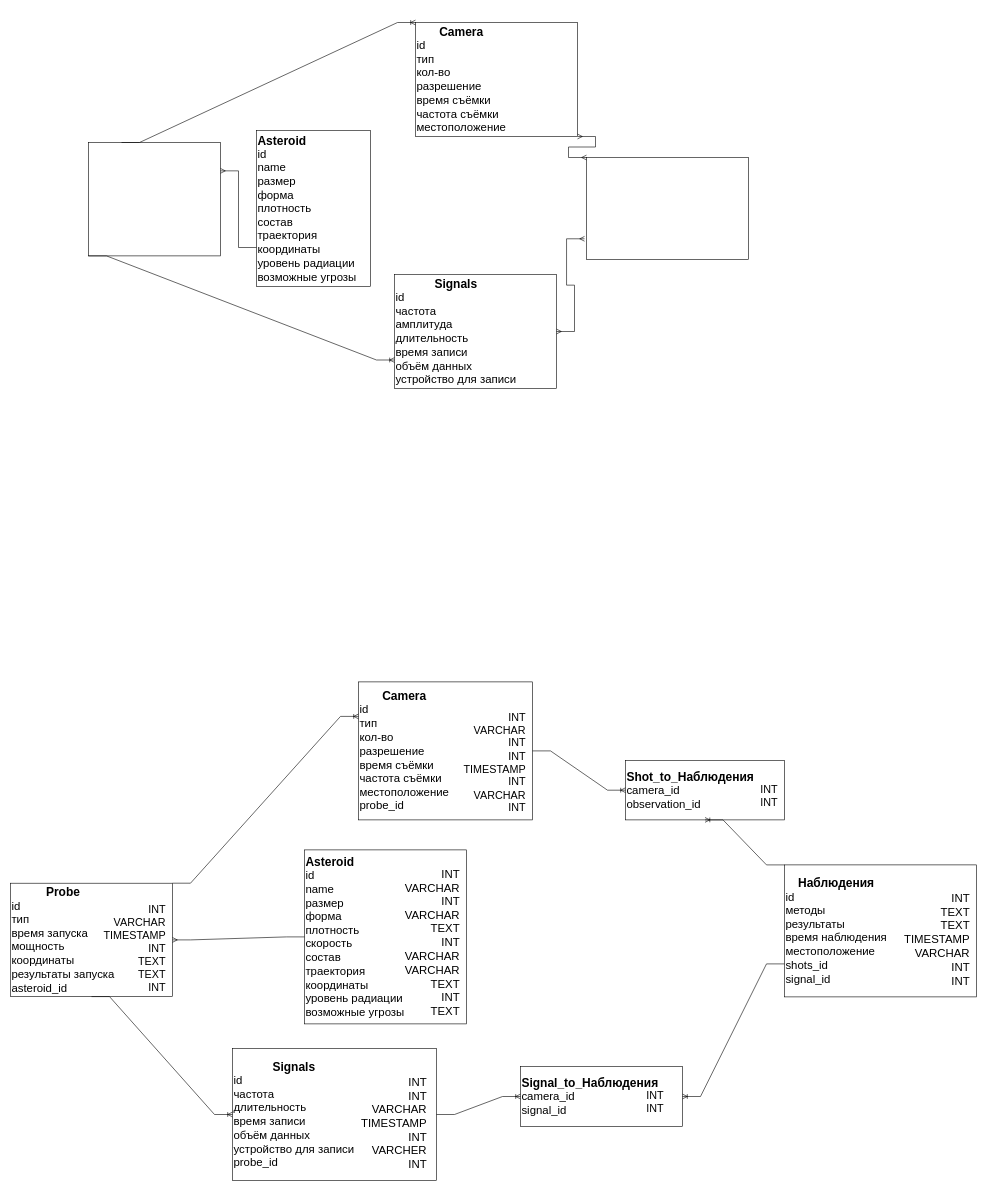
Image size: 987x1191. Some labels were removed from this diagram. Here are the shapes that lost their labels. From the top down, the centre of each, then its label:
At point (154, 199): "Probe id asteroid_id тип время запуска мощность координаты результаты запуска".
At point (667, 208): "Наблюдения id методы результаты время наблюдения местоположение camera_id".
